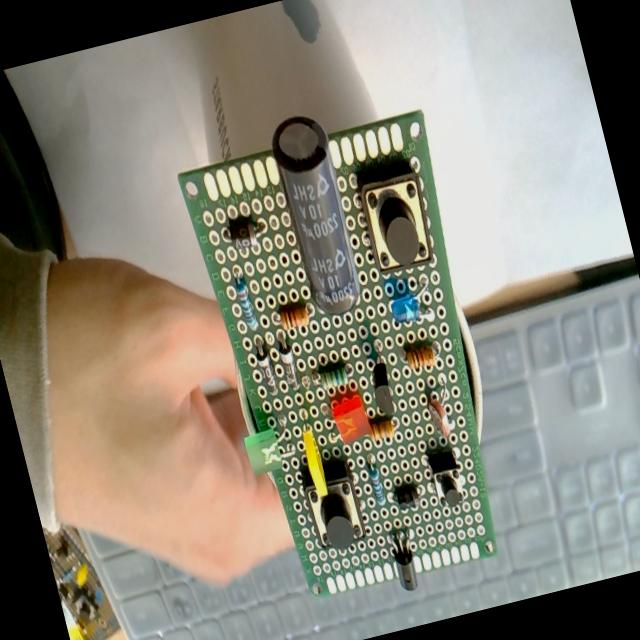Electrolytic capacitor: (265, 110, 369, 321)
cds: (421, 377, 459, 439)
diode: (223, 212, 271, 254), (274, 333, 301, 391), (252, 338, 278, 394), (394, 483, 421, 511)
led: (240, 422, 296, 478), (384, 274, 438, 328), (328, 389, 372, 446), (300, 429, 330, 499)
resistor: (232, 278, 259, 331), (365, 457, 387, 507), (404, 343, 436, 373), (318, 363, 350, 392), (278, 304, 310, 332), (368, 416, 396, 444)
switch: (351, 158, 441, 281), (298, 458, 371, 554), (426, 447, 468, 512)
transistor: (363, 344, 399, 416), (386, 532, 422, 594)
